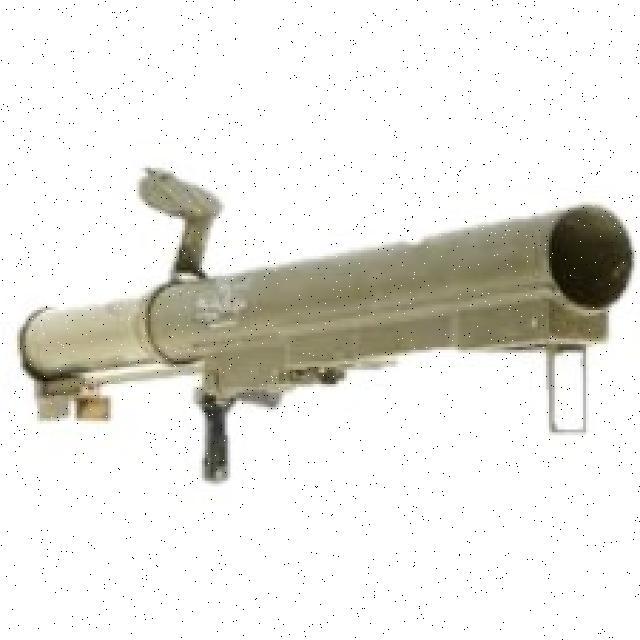bazooka: (14, 153, 640, 497)
